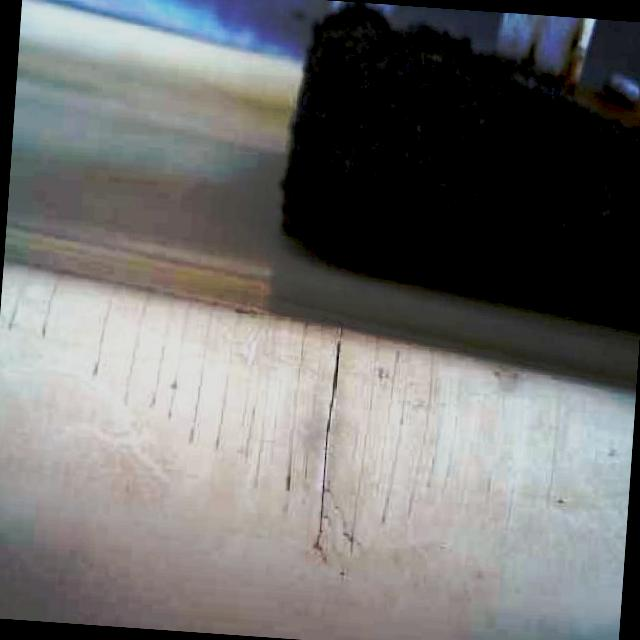crack: (314, 327, 344, 552)
